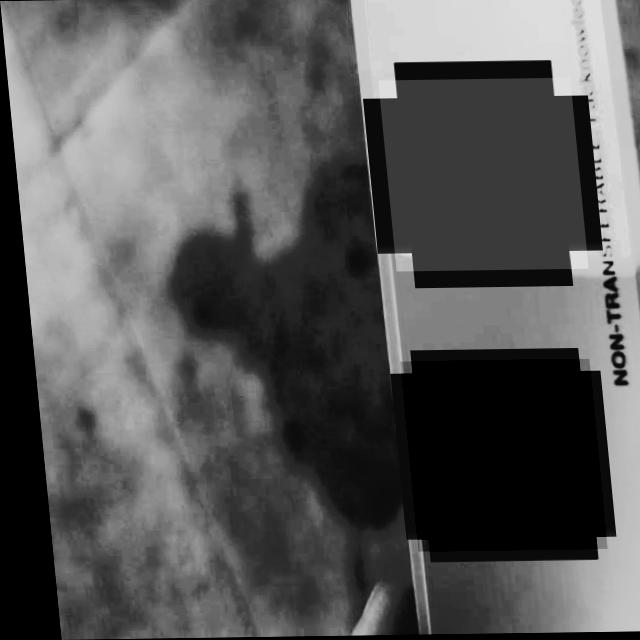qr_code: (376, 78, 583, 272), (393, 360, 596, 552)
